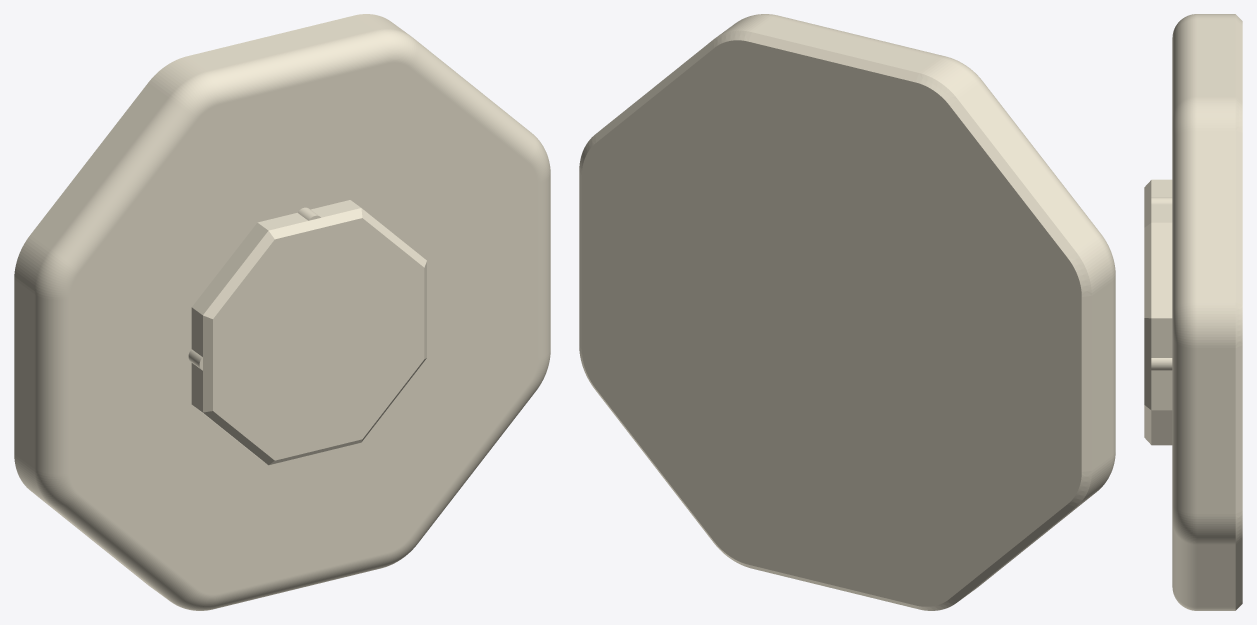
Rendered from t3@ivory.glb.
The picture shows the model from 3 angles, left to right: view 1: azimuth 30°, elevation 25°; view 2: azimuth 150°, elevation 25°; view 3: azimuth 270°, elevation 25°; orthographic projection. The views are drawn at different scales.
Visible parts, largest first — view 1: geometry_0; view 2: geometry_0; view 3: geometry_0.
Part boxes in pixels (x1,y1,x2,y2): geometry_0: (14, 14, 550, 610); geometry_0: (579, 14, 1115, 610); geometry_0: (1144, 14, 1242, 610).
Bounding box in the file's own units: 32 × 32 × 5.6.
